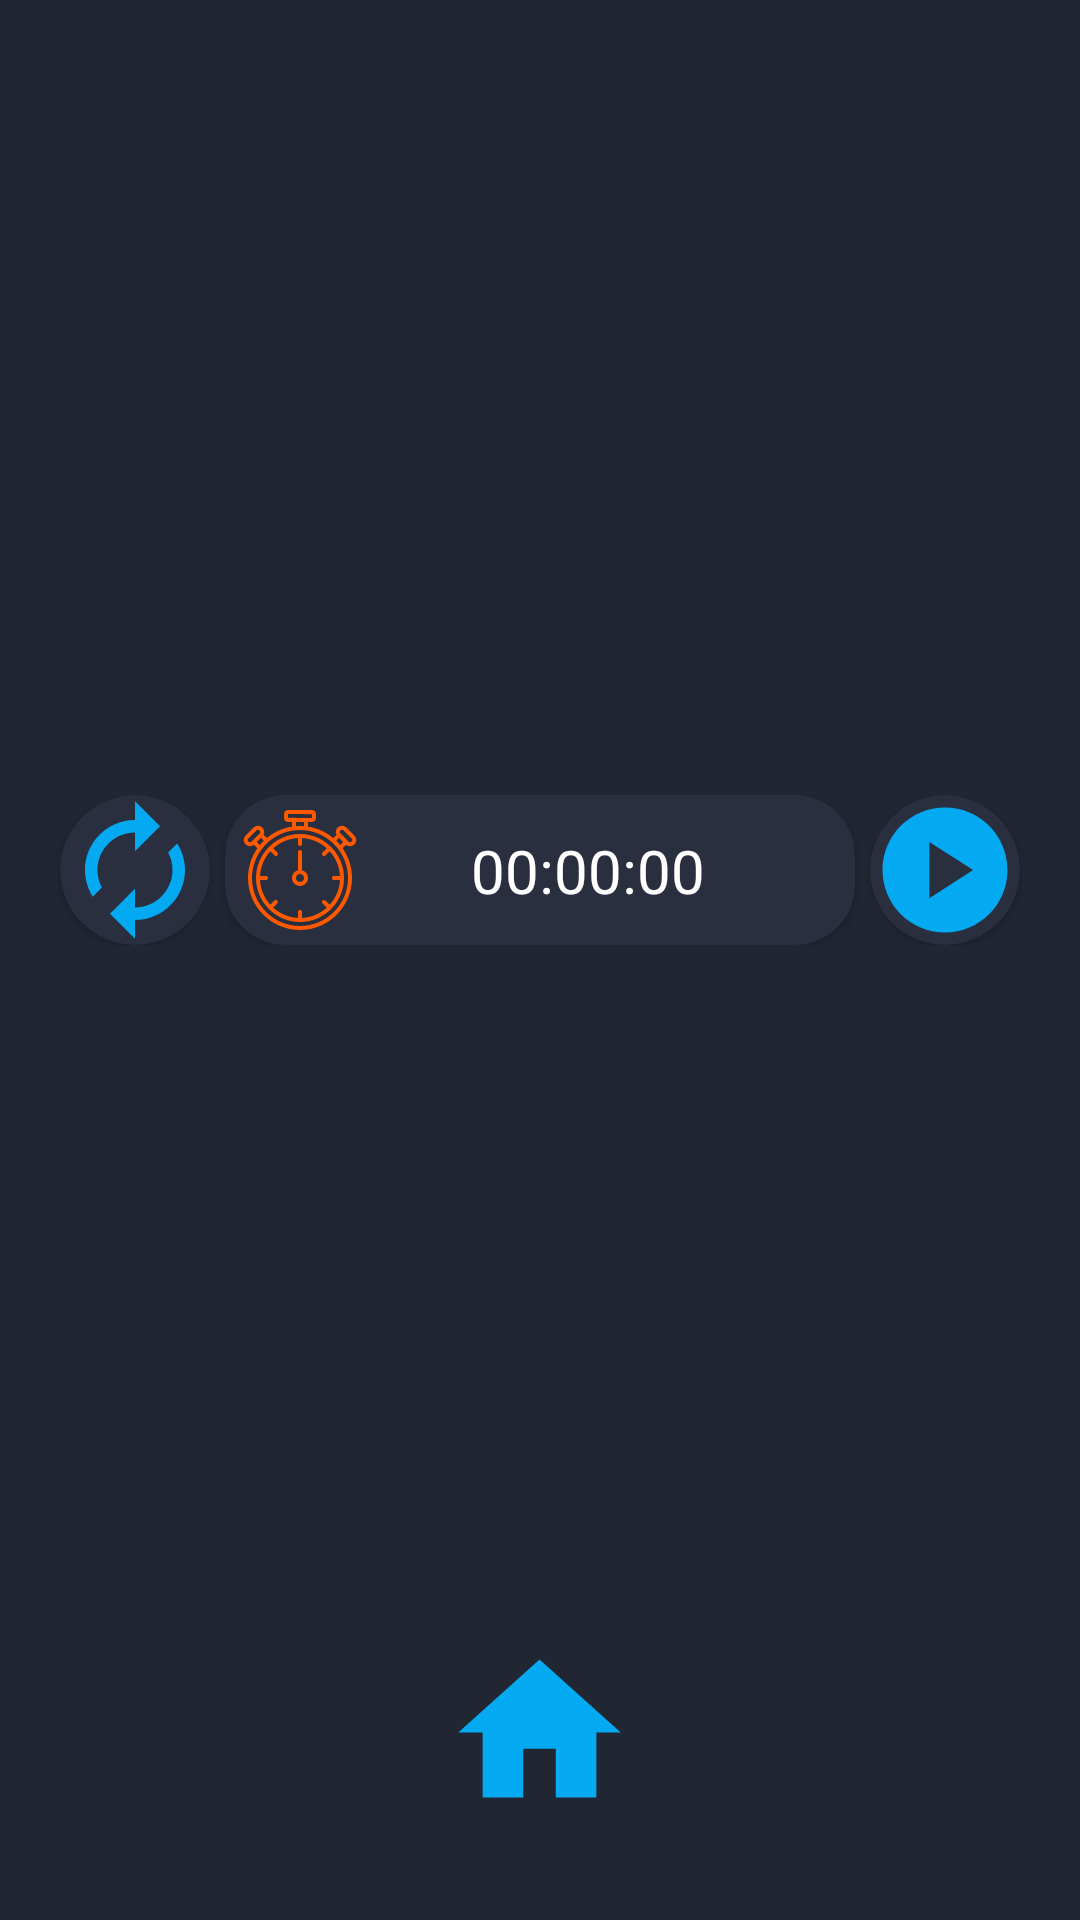

Icons on this 1080w x 1920h Android screen, each with its box as bbox(x1, y1, x2, y2):
autorenew: bbox(60, 795, 210, 945)
home: bbox(458, 1659, 621, 1798)
play circle: bbox(882, 807, 1008, 933)
timer: bbox(243, 810, 357, 930)
